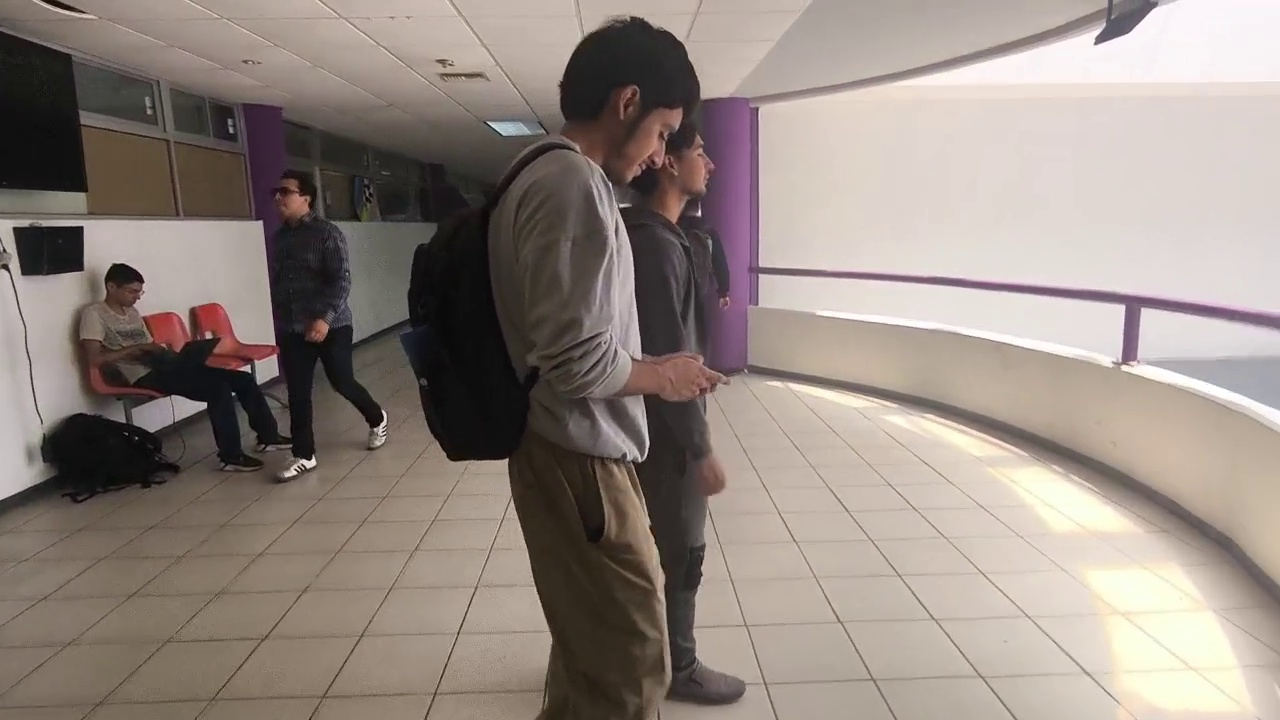mixto2: (703, 358, 752, 383)
